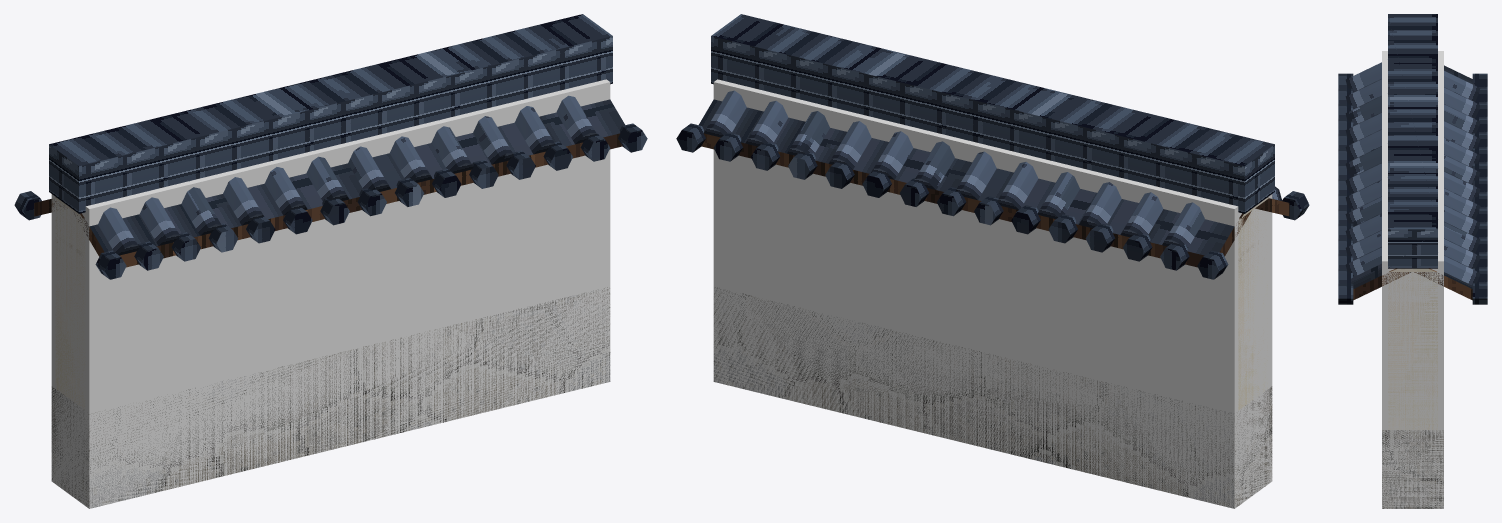
Rendered from JP_Rich_CompoundWall_4m_A.glb.
3 views of the same model, side by side, from view 1: azimuth 30°, elevation 25°; view 2: azimuth 150°, elevation 25°; view 3: azimuth 270°, elevation 25° (orthographic). The views are drawn at different scales.
Visible parts, largest first — view 1: COL_JP_Rich_CompoundWall_4m_A, JP_Rich_CompoundWall_4m_A; view 2: COL_JP_Rich_CompoundWall_4m_A, JP_Rich_CompoundWall_4m_A; view 3: JP_Rich_CompoundWall_4m_A, COL_JP_Rich_CompoundWall_4m_A.
Boxes of the visible parts, bbox=[...] form: COL_JP_Rich_CompoundWall_4m_A: bbox=[51, 79, 610, 508]; JP_Rich_CompoundWall_4m_A: bbox=[14, 14, 647, 508]; COL_JP_Rich_CompoundWall_4m_A: bbox=[713, 79, 1272, 508]; JP_Rich_CompoundWall_4m_A: bbox=[676, 14, 1309, 507]; JP_Rich_CompoundWall_4m_A: bbox=[1338, 14, 1487, 508]; COL_JP_Rich_CompoundWall_4m_A: bbox=[1382, 51, 1443, 508].
Bounding box in the file's own units: 4.17 × 2.51 × 1.2.
7 materials, 7 textured.
